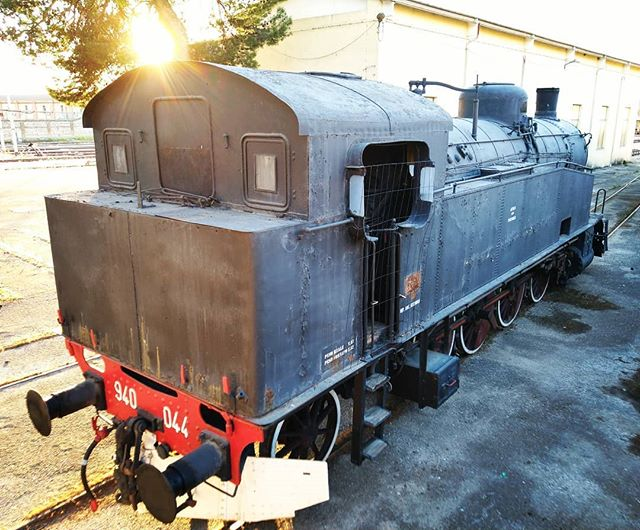building: (275, 9, 640, 165)
train: (69, 89, 604, 484)
